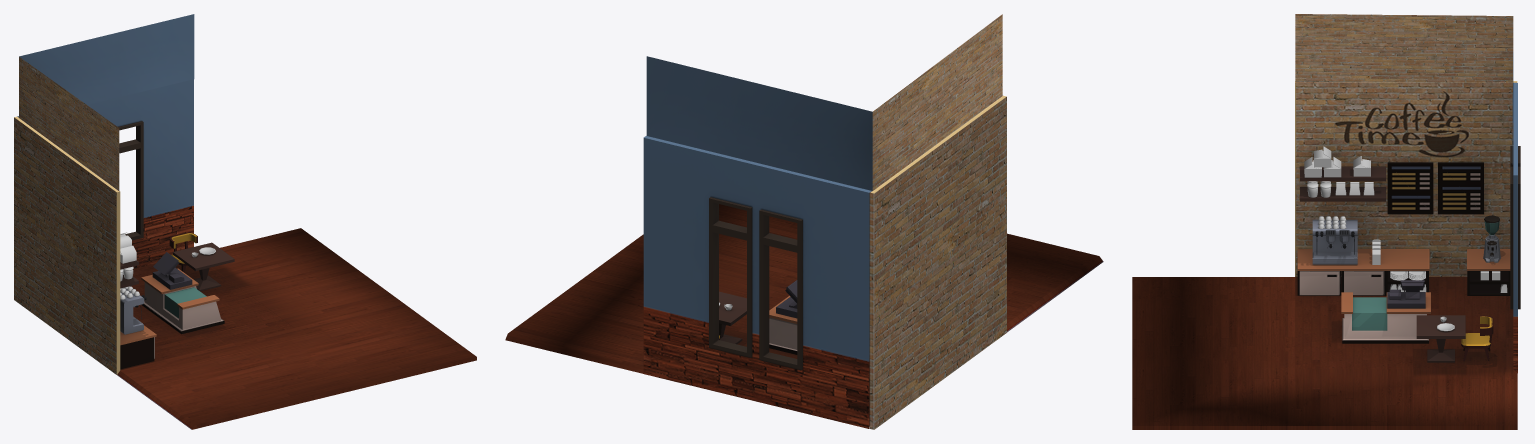
File: Tx_Interior_Work_CoffeeShop_20160713.fbx
The picture shows the model from 3 angles, left to right: view 1: azimuth 30°, elevation 25°; view 2: azimuth 150°, elevation 25°; view 3: azimuth 270°, elevation 25°; orthographic projection. The views are drawn at different scales.
Visible parts, largest first — view 1: Expand, Structure, Props; view 2: Structure, Expand; view 3: Structure, Expand, Props.
Part boxes in pixels (x1,y1,x2,y2): Expand: (19,14,476,429); Structure: (14,79,294,374); Props: (120,232,215,299); Structure: (643,95,1006,429); Expand: (505,14,1103,373); Structure: (1295,81,1520,373); Expand: (1132,14,1517,429); Props: (1304,146,1507,331).
Size of the model in its own units: 36.41 by 30.02 by 39.62.
